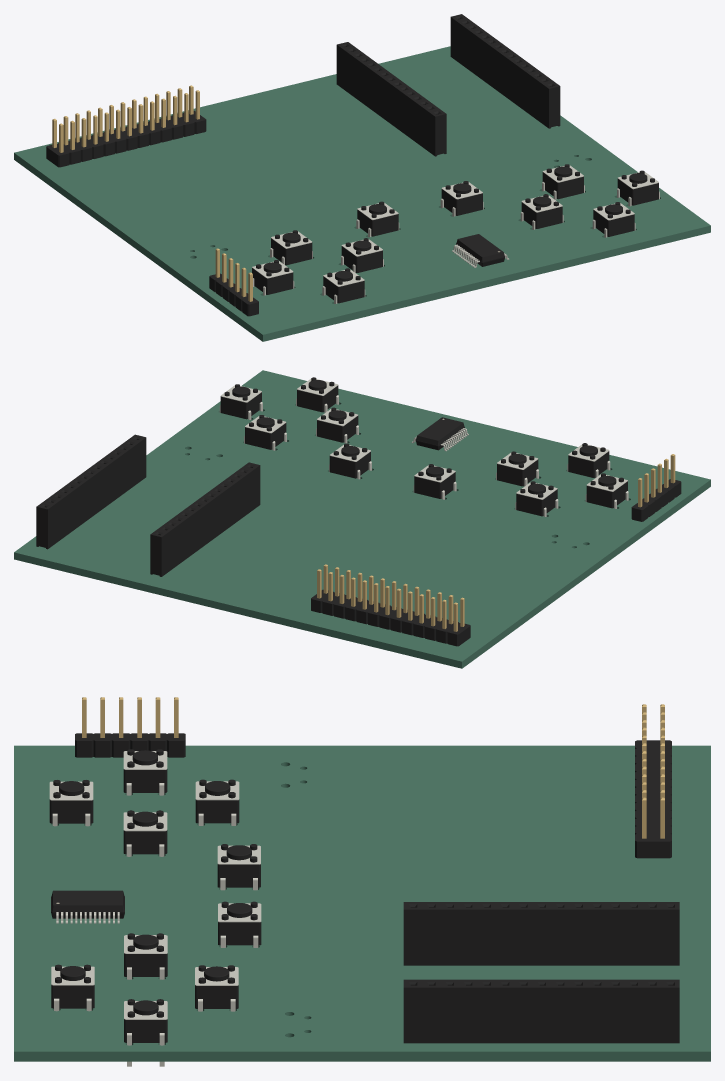
3 views of the same model, one above another, from view 1: azimuth 30°, elevation 25°; view 2: azimuth 150°, elevation 25°; view 3: azimuth 270°, elevation 25° (orthographic). The views are drawn at different scales.
Parts seen in each view (by area): view 1: =>[0:1:1:7], J3, J2, J1, J4, U2, SW6, SW9, SW10, SW8, SW4, SW7 (+4 smaller); view 2: =>[0:1:1:7], J3, J1, J2, J4, U2, SW7, SW1, SW9, SW2, SW10, SW4 (+4 smaller); view 3: =>[0:1:1:7], J2, J1, J3, J4, U2, SW7, SW3, SW1, SW4, SW2, SW8 (+4 smaller).
Part boxes in pixels (x1,y1,x2,y2): =>[0:1:1:7]: (14,46,710,341); J3: (46,85,206,167); J2: (450,14,560,128); J1: (336,42,446,156); J4: (209,248,258,316); U2: (452,234,509,267); SW6: (520,194,563,229); SW9: (356,201,399,237); SW10: (440,181,483,216); SW8: (592,202,635,237); SW4: (322,268,365,303); SW7: (617,170,659,206); =>[0:1:1:7]: (14,370,710,668); J3: (311,564,470,646); J1: (150,462,260,576); J2: (36,434,146,549); J4: (631,454,681,521); U2: (411,417,468,451); SW7: (219,384,262,419); SW1: (515,481,558,516); SW9: (413,464,456,499); SW2: (585,473,628,508); SW10: (329,443,371,479); SW4: (567,443,610,477); =>[0:1:1:7]: (14,745,710,1061); J2: (403,979,679,1043); J1: (403,902,679,965); J3: (635,704,671,858); J4: (75,697,185,757); U2: (51,890,124,923); SW7: (124,999,167,1066); SW3: (123,810,167,856); SW1: (195,779,239,825); SW4: (49,780,93,826); SW2: (123,749,167,795); SW8: (51,964,94,1011).
Bounding box in the file's own units: 0.1 × 0.012 × 0.0962.
